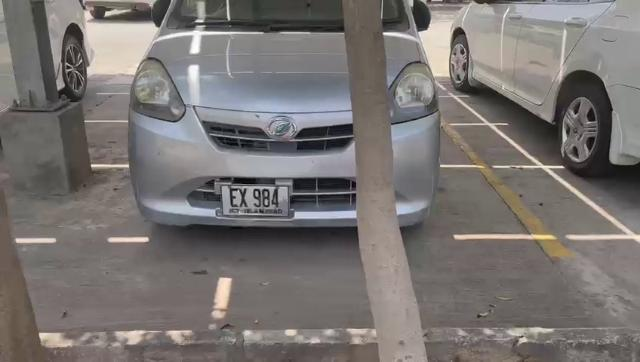plate: (218, 182, 296, 214)
